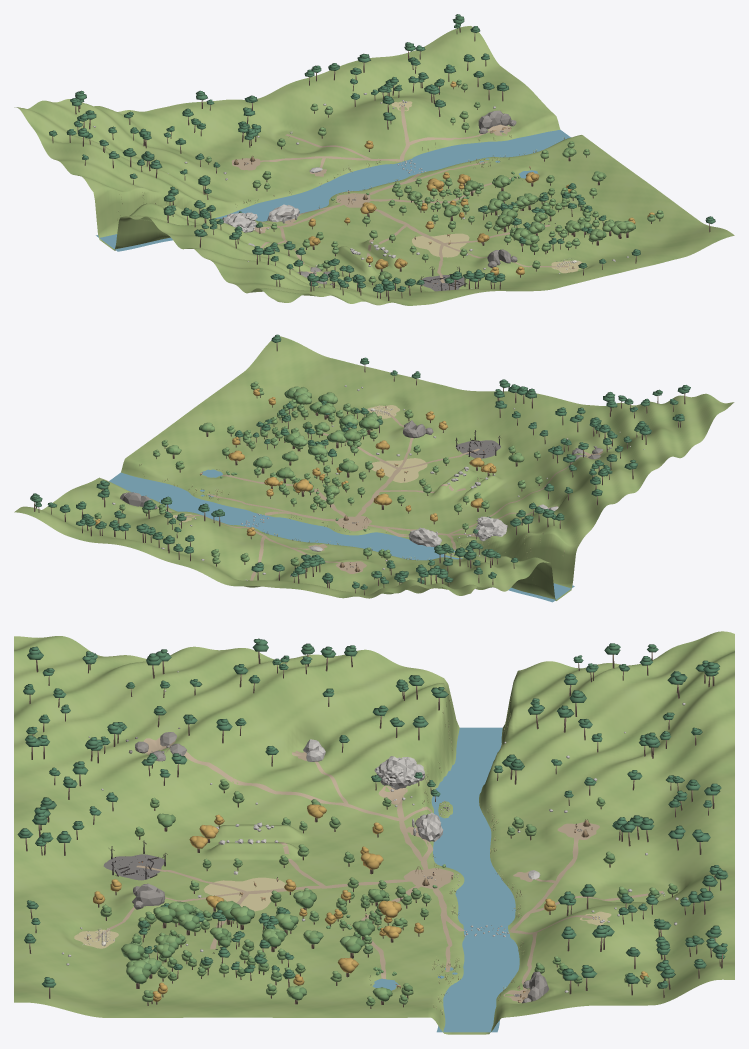
The model's file is paleo.glb.
3 renders of one model, top to bottom at view 1: azimuth 30°, elevation 25°; view 2: azimuth 150°, elevation 25°; view 3: azimuth 270°, elevation 25°, orthographic. The views are drawn at different scales.
Visible parts, largest first — view 1: ground, static_pine, static_leaf2, static_water, static_dirt, static_bark, static_leaf_autumn, static_leaf, static_dry; view 2: ground, static_pine, static_water, static_leaf2, static_dirt, static_leaf, static_bark, static_leaf_autumn, static_dry, static_ash, col_cave_rock.007; view 3: ground, static_pine, static_water, static_leaf2, static_dirt, static_leaf, static_leaf_autumn, static_bark, static_dry, static_ash.
Part boxes in pixels (<box>): ground: <box>14,26,734,305</box>; static_pine: <box>49,14,715,292</box>; static_leaf2: <box>205,79,663,287</box>; static_water: <box>96,129,570,251</box>; static_dirt: <box>231,105,568,283</box>; static_bark: <box>52,27,710,300</box>; static_leaf_autumn: <box>308,81,654,275</box>; static_leaf: <box>206,80,663,278</box>; static_dry: <box>118,101,581,273</box>; ground: <box>14,336,734,600</box>; static_pine: <box>30,334,690,589</box>; static_water: <box>109,469,574,602</box>; static_leaf2: <box>94,381,542,575</box>; static_dirt: <box>150,410,603,580</box>; static_leaf: <box>94,382,540,574</box>; static_bark: <box>34,343,685,595</box>; static_leaf_autumn: <box>95,388,496,536</box>; static_dry: <box>139,405,564,577</box>; static_ash: <box>455,440,500,458</box>; col_cave_rock.007: <box>408,527,440,546</box>; ground: <box>14,631,734,1034</box>; static_pine: <box>17,638,728,988</box>; static_water: <box>372,727,519,1032</box>; static_leaf2: <box>100,779,678,1006</box>; static_dirt: <box>95,737,663,1002</box>; static_leaf: <box>102,781,677,1003</box>; static_leaf_autumn: <box>93,804,648,1001</box>; static_bark: <box>25,651,722,1008</box>; static_dry: <box>74,692,611,1014</box>; static_ash: <box>103,854,519,996</box>.
Size of the model in its own units: 260 by 47.6 by 260.
